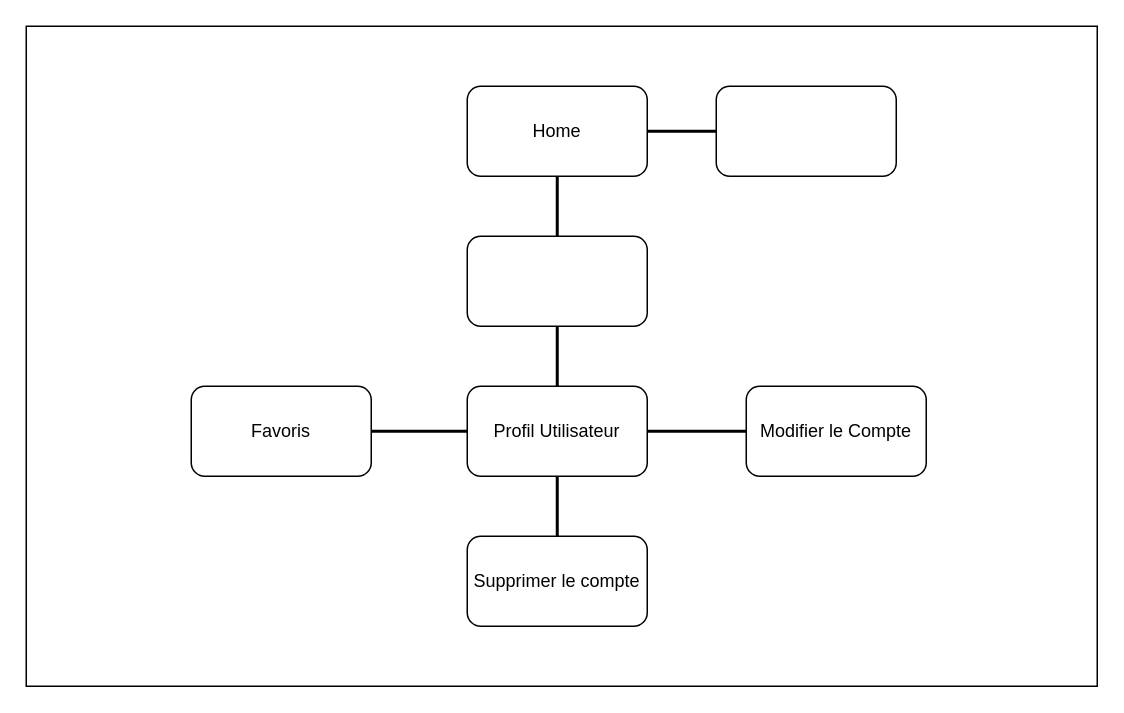
Some shapes in this 1124 by 713 pixel diagram are drawn without their labels. The shapes that lost their labels are listed below. From the top down, each one's box as (x1, y1, x2, y2) in pixels, then its label:
(715, 85, 896, 176): Créer un compte
(466, 235, 647, 326): Connection
